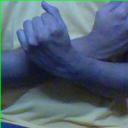hand: (17, 1, 74, 75), (89, 0, 128, 57)
